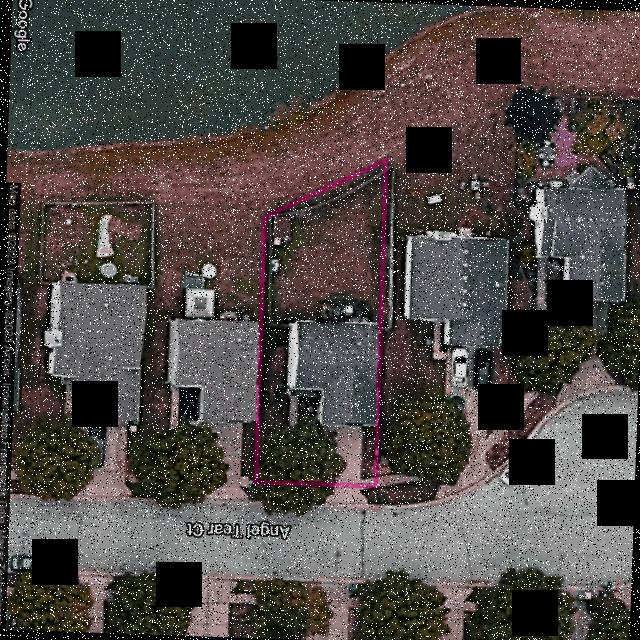Driveway: (322, 426, 369, 482), (287, 397, 297, 427)
Extra Driveway: (325, 488, 367, 503)
Extra Lawn: (254, 484, 333, 504), (358, 488, 374, 503)
House: (286, 321, 376, 426)
Other: (320, 300, 372, 322), (269, 215, 289, 246), (269, 258, 278, 272)
